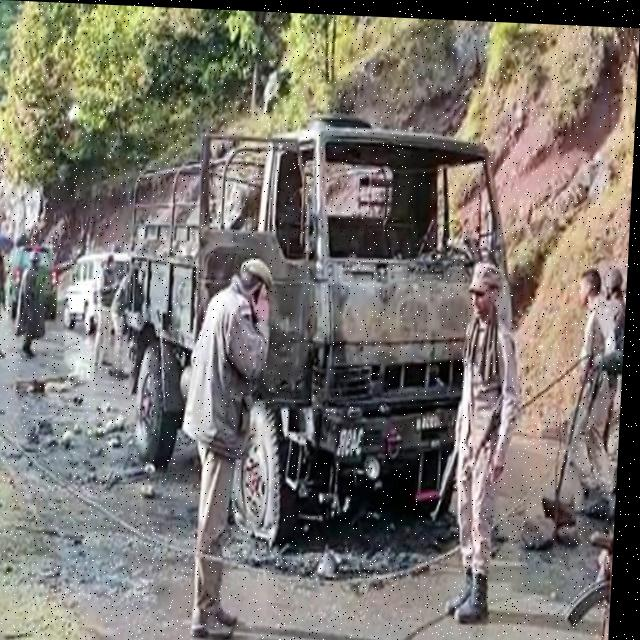unit number: (340, 419, 371, 458)
